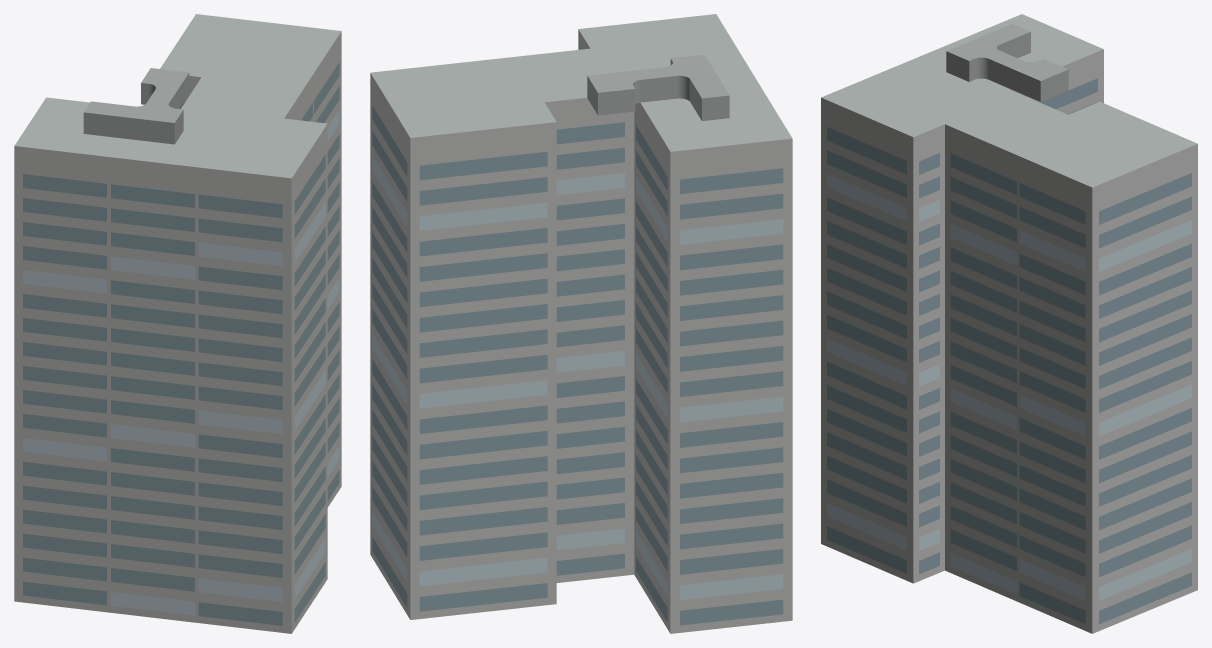
Rendered from fallback-mapo-grang-xi-109.glb.
The picture shows the model from 3 angles, left to right: view 1: azimuth 30°, elevation 25°; view 2: azimuth 150°, elevation 25°; view 3: azimuth 270°, elevation 25°; orthographic projection. The views are drawn at different scales.
Visible parts, largest first — view 1: fallback-mapo-grang-xi-109; view 2: fallback-mapo-grang-xi-109; view 3: fallback-mapo-grang-xi-109.
Part boxes in pixels (<box>): fallback-mapo-grang-xi-109: <box>14,14,341,633</box>; fallback-mapo-grang-xi-109: <box>370,14,792,633</box>; fallback-mapo-grang-xi-109: <box>821,14,1197,633</box>.
Size of the model in its own units: 38.24 by 48 by 35.09.
